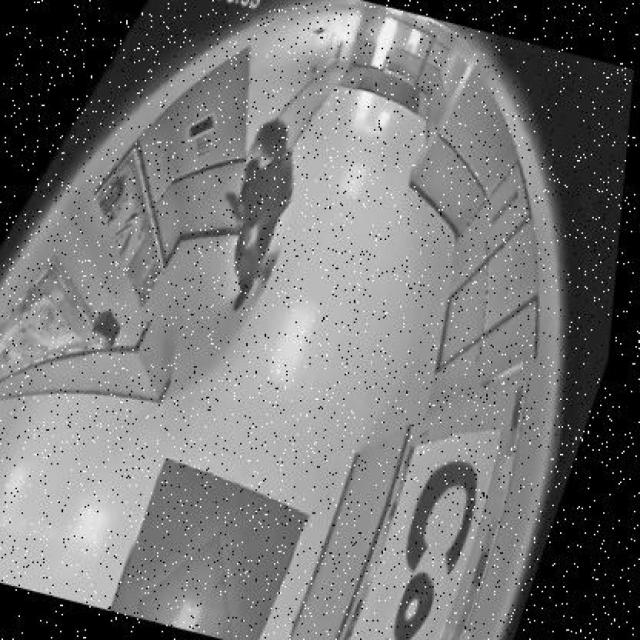weapon: (225, 191, 269, 284)
